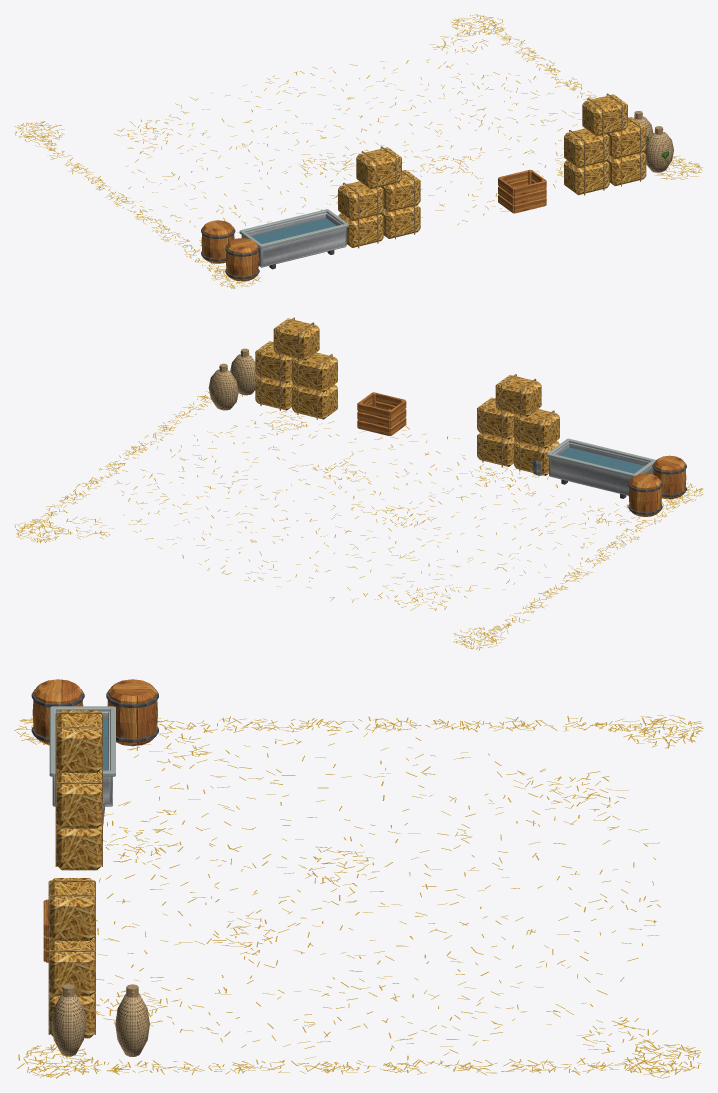
File: BarnCozy_SetDressing.fbx
3 views of the same model, one above another, from view 1: azimuth 30°, elevation 25°; view 2: azimuth 150°, elevation 25°; view 3: azimuth 270°, elevation 25° (orthographic). The views are drawn at different scales.
Parts seen in each view (by area): view 1: BarnCozy_SetDressing; view 2: BarnCozy_SetDressing; view 3: BarnCozy_SetDressing.
Part boxes in pixels (x1,y1,x2,y2): BarnCozy_SetDressing: (14, 14, 702, 288); BarnCozy_SetDressing: (14, 317, 703, 650); BarnCozy_SetDressing: (14, 679, 703, 1078).
Bounding box in the file's own units: 12.14 × 2 × 9.73.
